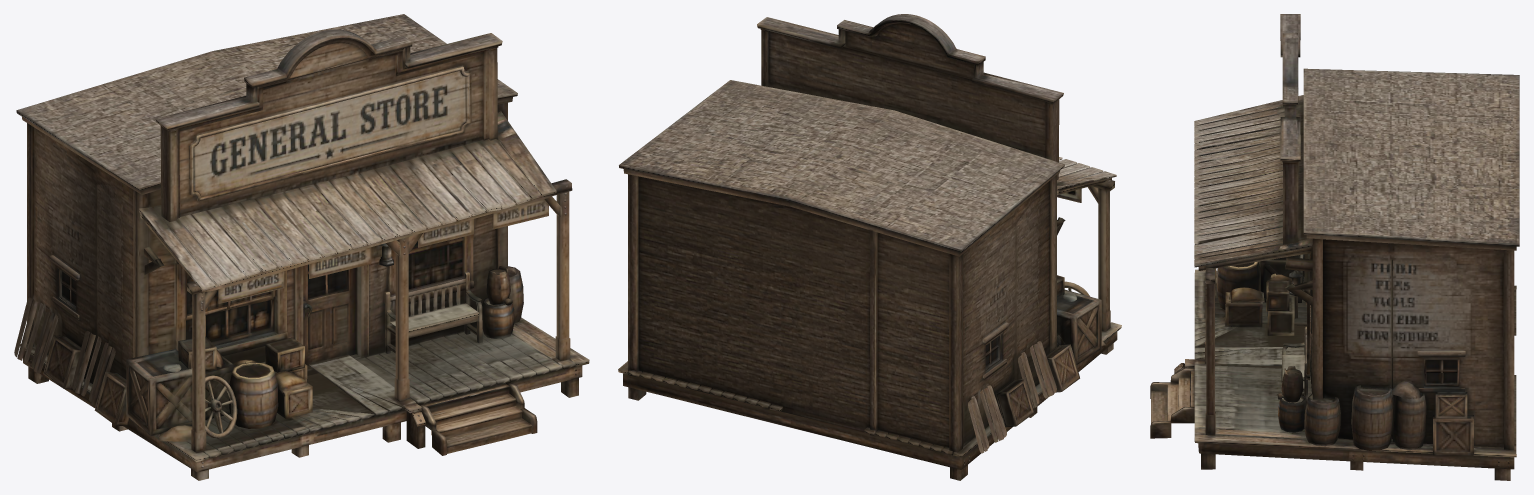
Rendered from generalStore.glb.
The picture shows the model from 3 angles, left to right: view 1: azimuth 30°, elevation 25°; view 2: azimuth 150°, elevation 25°; view 3: azimuth 270°, elevation 25°; orthographic projection. The views are drawn at different scales.
Parts seen in each view (by area): view 1: tripo_node_0ff8c7ee-4ef1-4d6d-8e3e-c446b389e3d0; view 2: tripo_node_0ff8c7ee-4ef1-4d6d-8e3e-c446b389e3d0; view 3: tripo_node_0ff8c7ee-4ef1-4d6d-8e3e-c446b389e3d0.
Boxes of the visible parts, x1,y1,x2,y2 form: tripo_node_0ff8c7ee-4ef1-4d6d-8e3e-c446b389e3d0: [14, 14, 589, 480]; tripo_node_0ff8c7ee-4ef1-4d6d-8e3e-c446b389e3d0: [618, 14, 1121, 480]; tripo_node_0ff8c7ee-4ef1-4d6d-8e3e-c446b389e3d0: [1150, 14, 1519, 480].
Bounding box in the file's own units: 0.9995 × 0.8882 × 0.8452.
1 material, 1 textured.
